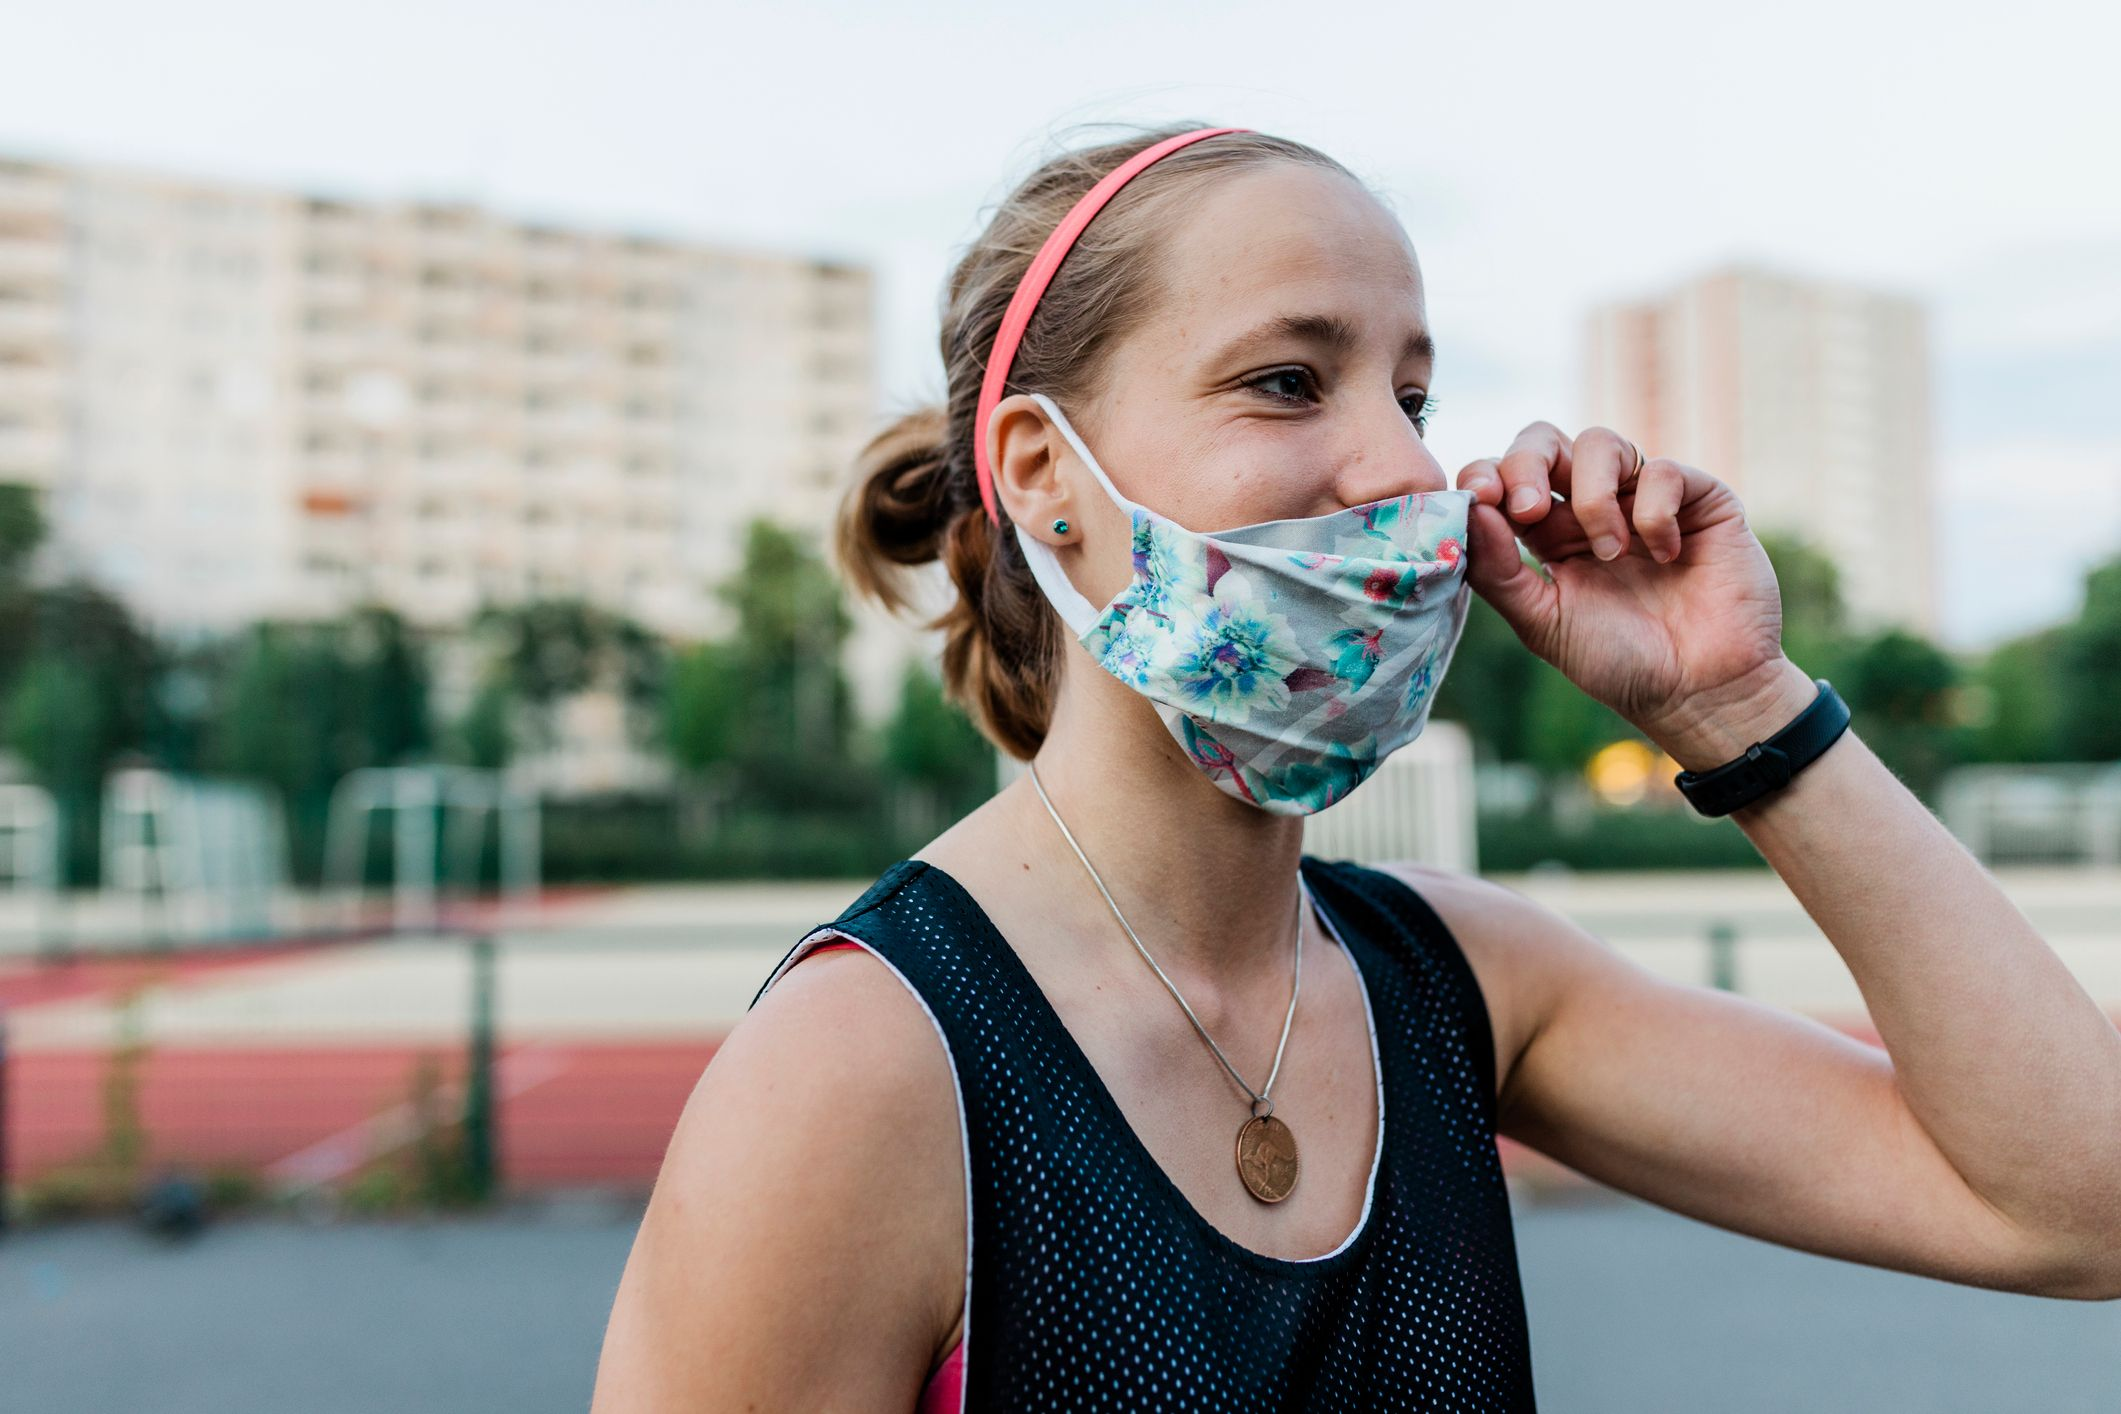with_incorrect_mask: (1085, 247, 1468, 759)
